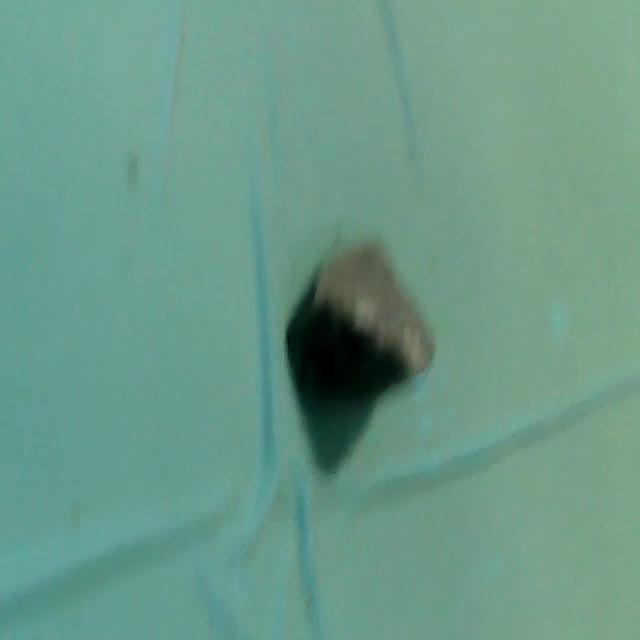rock: (283, 223, 448, 414)
